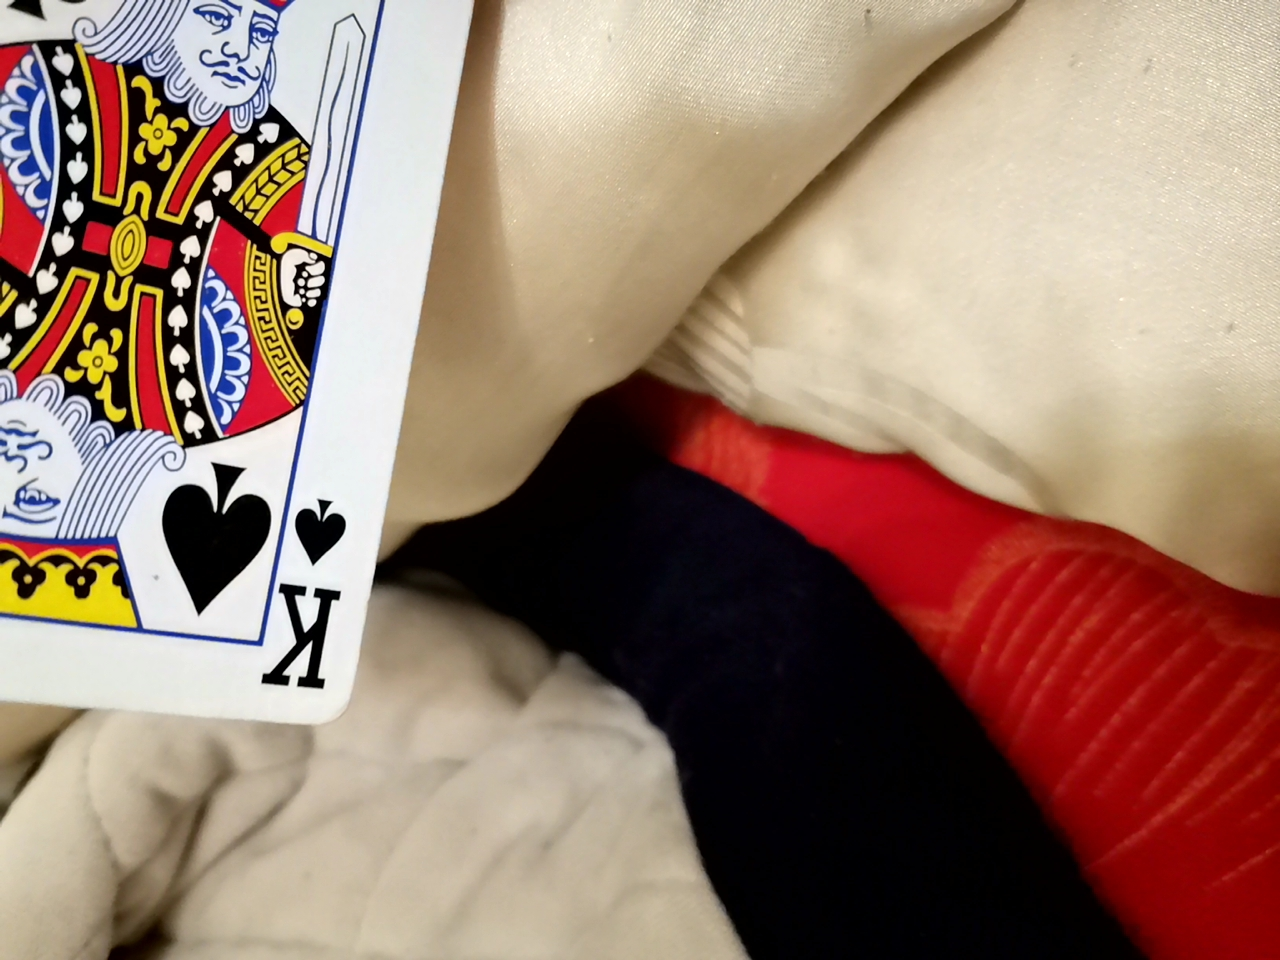ht k: (4, 1, 494, 731)
